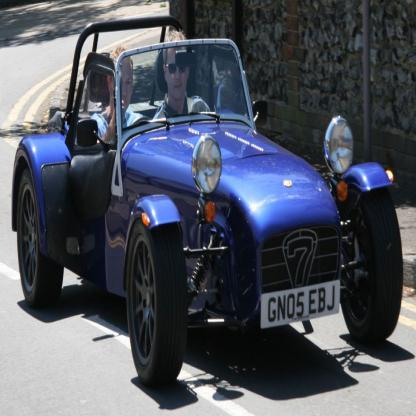Car: (11, 14, 404, 391)
